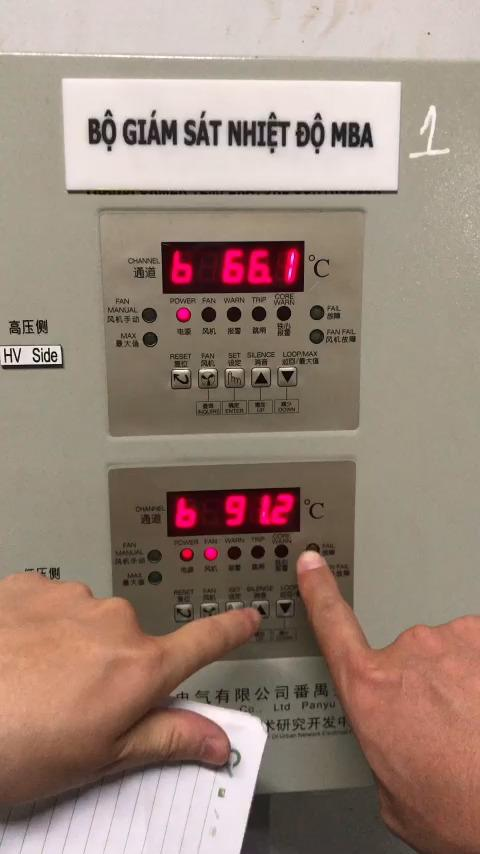led: (174, 306, 192, 324), (200, 306, 218, 322), (141, 308, 158, 324), (251, 306, 267, 322), (226, 306, 242, 322), (148, 549, 164, 565), (310, 305, 325, 322), (276, 306, 292, 321), (142, 333, 158, 348), (179, 548, 195, 563), (274, 544, 289, 559), (310, 328, 324, 344), (228, 545, 242, 561), (148, 571, 162, 587), (252, 545, 266, 560), (204, 547, 218, 562), (307, 543, 320, 557)
